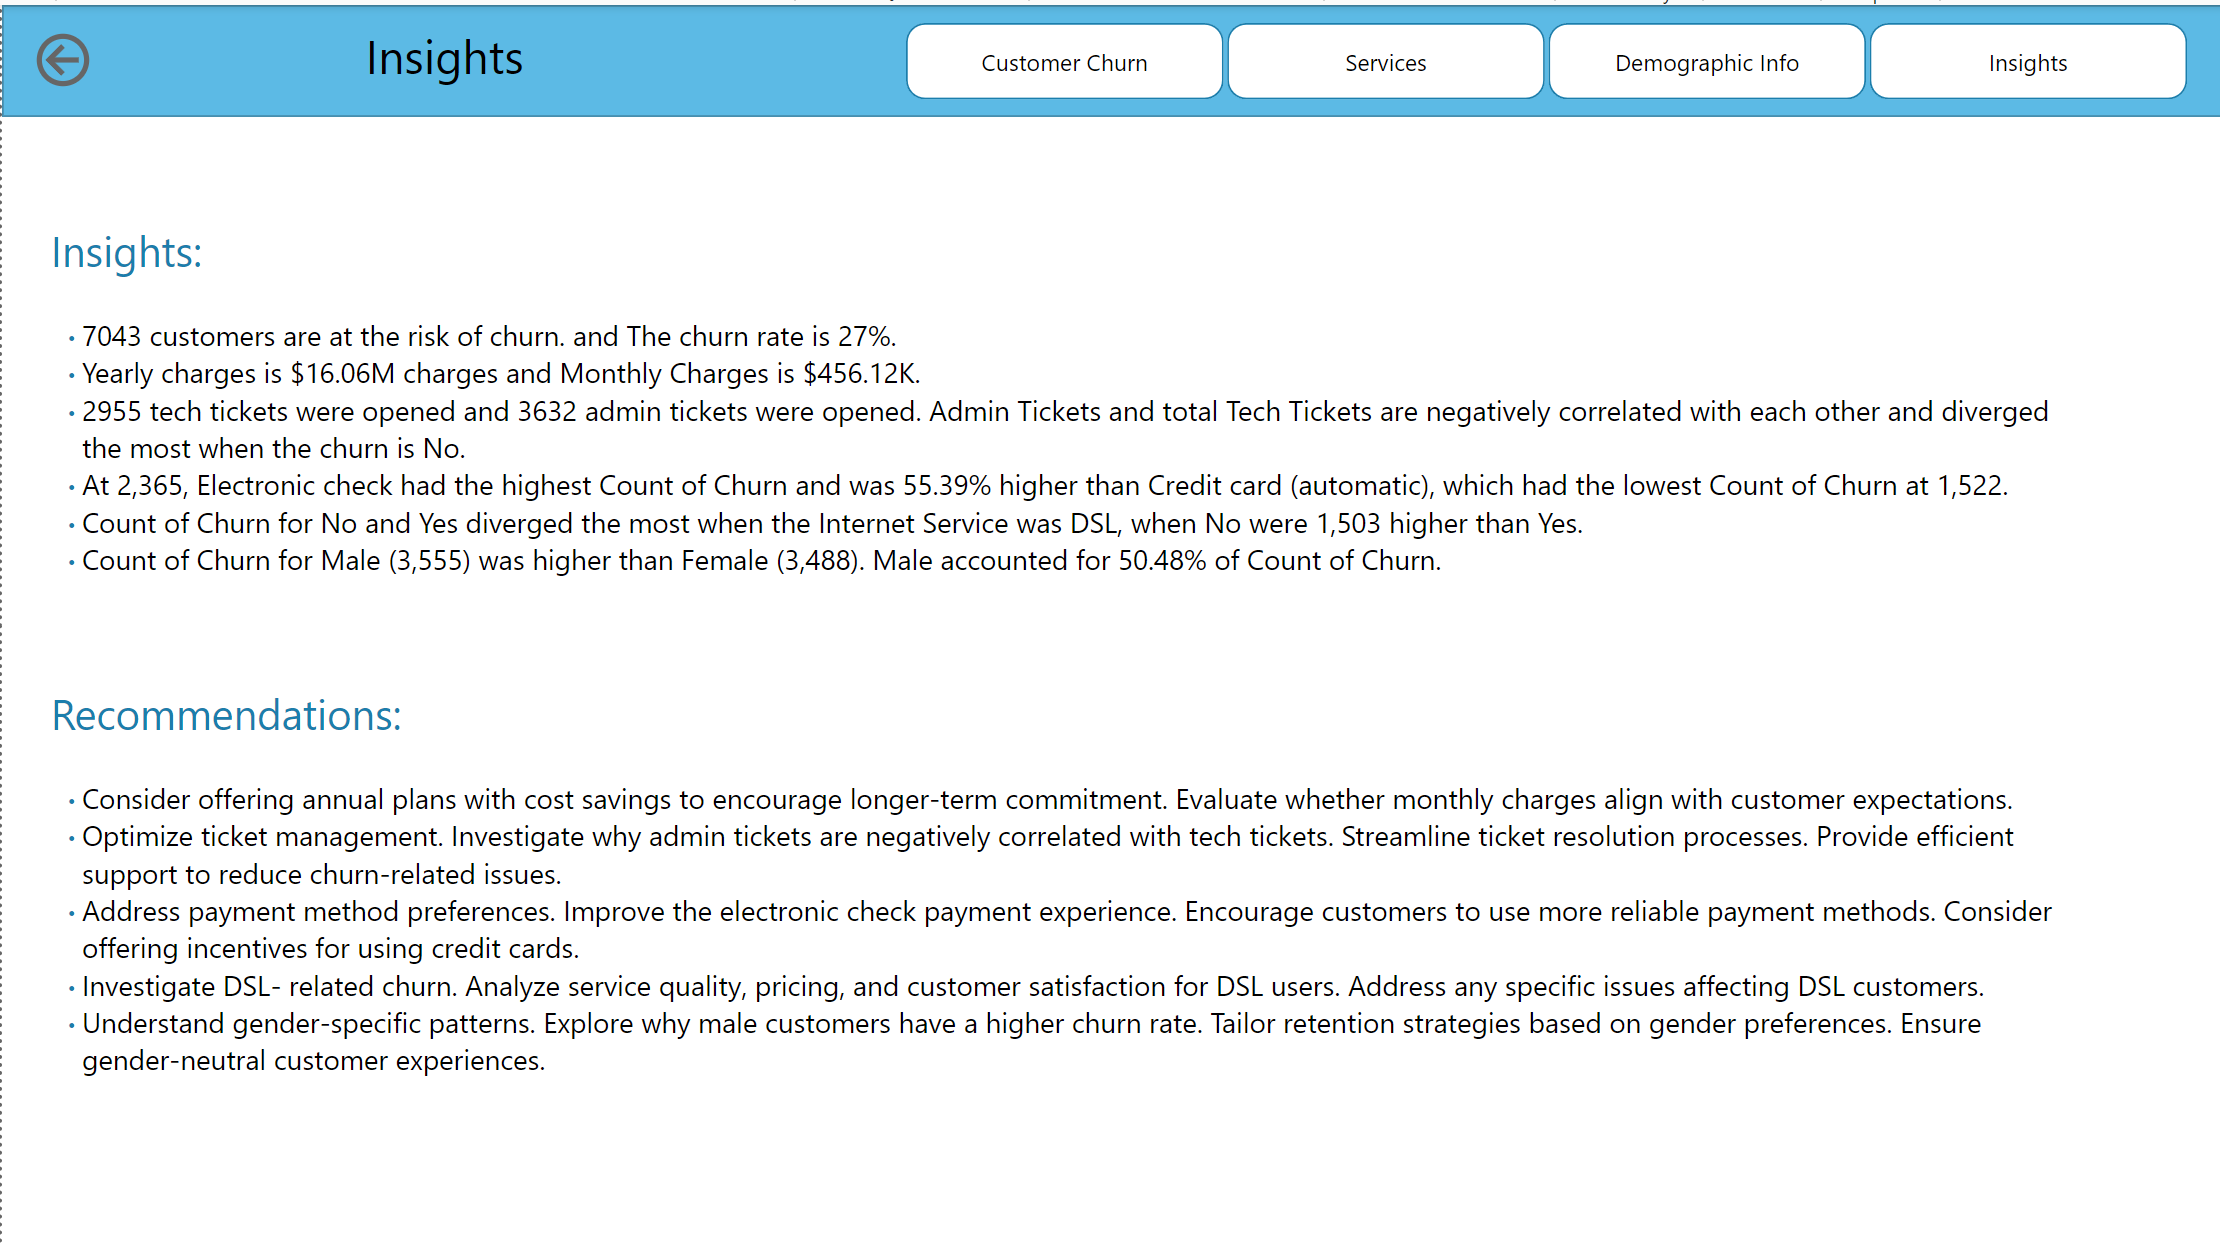

The dashboard page shown, as its layout file describes it:
{"tool":"powerbi","page":{"name":"Insights","canvas":[1280,720],"ordinal":4},"visuals":[{"type":"shape","box":[0,0,1279.7,64.5],"z":0},{"type":"actionButton","box":[15.2,11.6,43.9,40.3],"z":1000},{"type":"textbox","box":[76.1,5.4,358.2,53.7],"z":2000},{"type":"pageNavigator","box":[521.2,9.9,738.8,44.8],"z":3000},{"type":"textbox","box":[23.3,173.7,1169.6,183.6],"z":3005},{"type":"textbox","box":[23.3,120,111,53.7],"z":3006},{"type":"textbox","box":[23.3,386,231.9,53.7],"z":3007},{"type":"textbox","box":[23.3,439.7,1169.6,183.6],"z":3008}]}

Visuals, with their boxes in screenshot pixels (x1, y1, x2, y2), scaled from the page's 1280x720 canvas onto the 2220x1246 screenshot:
shape: 0/0/2219/112
actionButton: 26/20/103/90
textbox: 132/9/753/102
pageNavigator: 904/17/2185/95
textbox: 40/301/2069/618
textbox: 40/208/233/301
textbox: 40/668/443/761
textbox: 40/761/2069/1079
